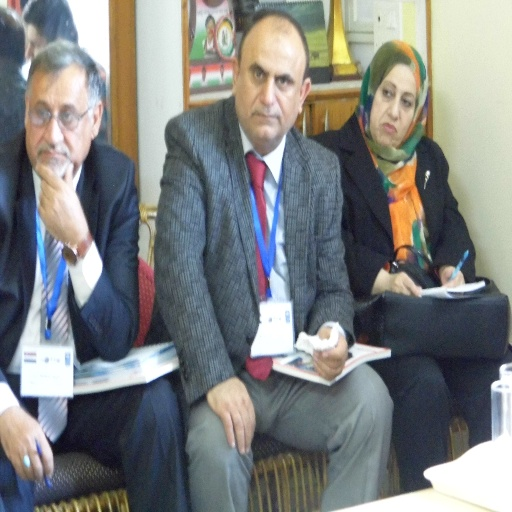hand: (36, 160, 88, 246), (204, 375, 257, 456), (1, 413, 50, 495), (311, 323, 348, 381), (379, 271, 423, 299), (437, 262, 465, 287)
